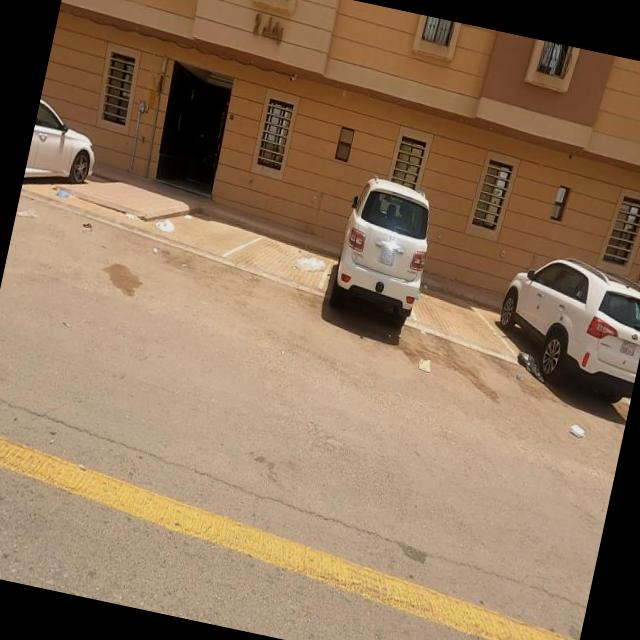debris: (468, 312, 586, 422), (517, 375, 631, 485), (118, 177, 204, 283), (384, 311, 460, 411), (266, 214, 353, 298), (24, 166, 102, 232), (10, 181, 52, 248), (106, 189, 152, 241), (68, 204, 105, 247)
